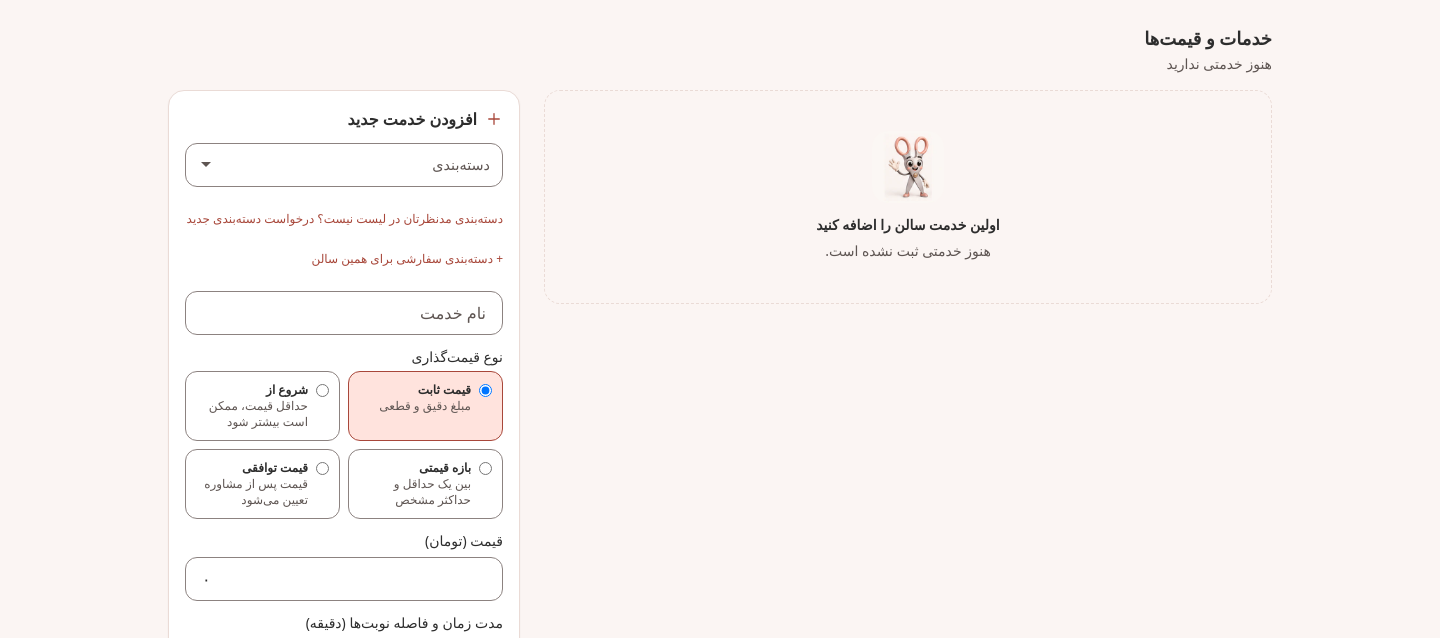
ServicesView › shows an inline error and skips the request for a too-short category request name
Step 1. Click the button with test id "open-category-request" → x=345, y=219, box [187,199,503,239]
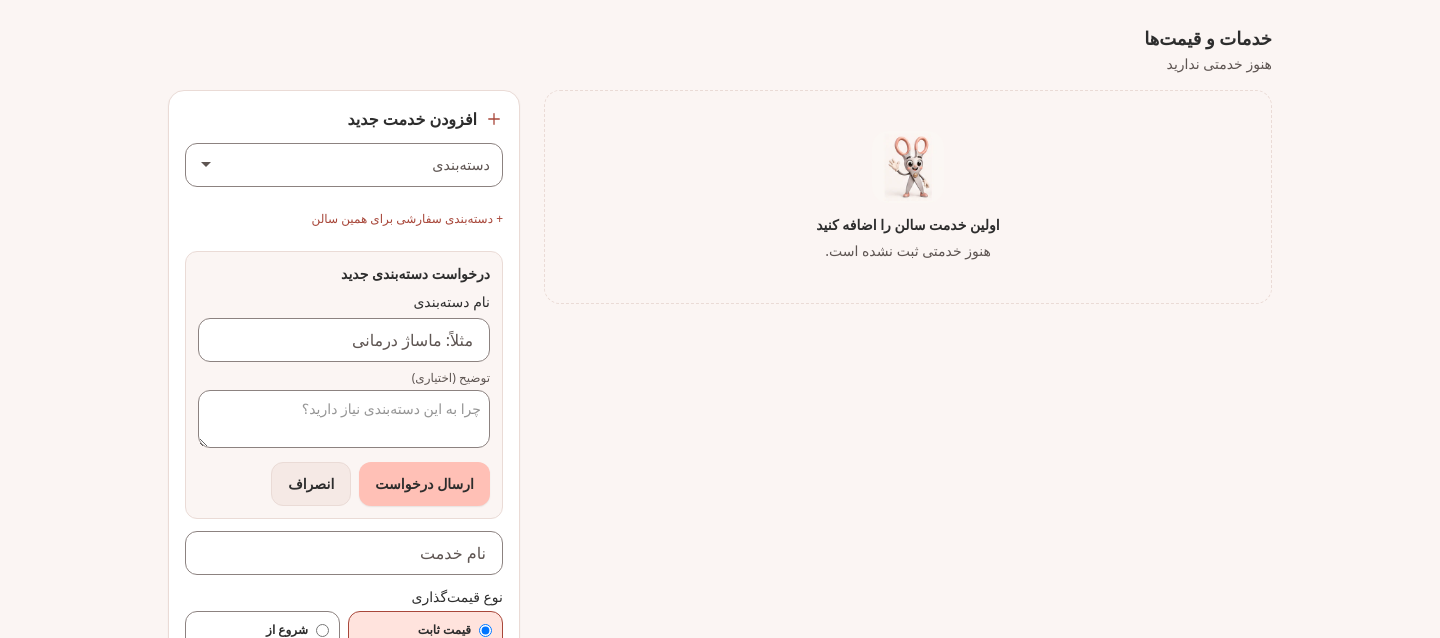
Step 2. Type "م" into the field with test id "category-request-name" → x=344, y=340, box [198,318,490,362]
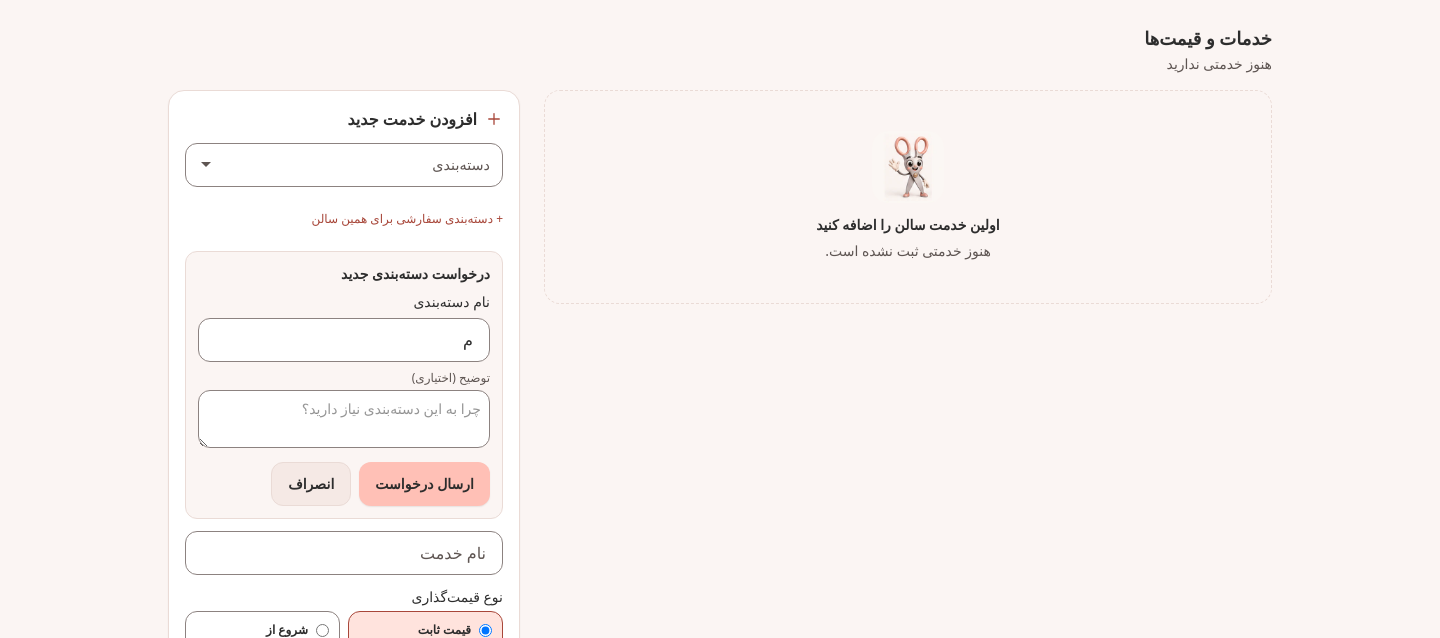
Step 3. Click the button with test id "submit-category-request" → x=425, y=484, box [359,462,490,506]
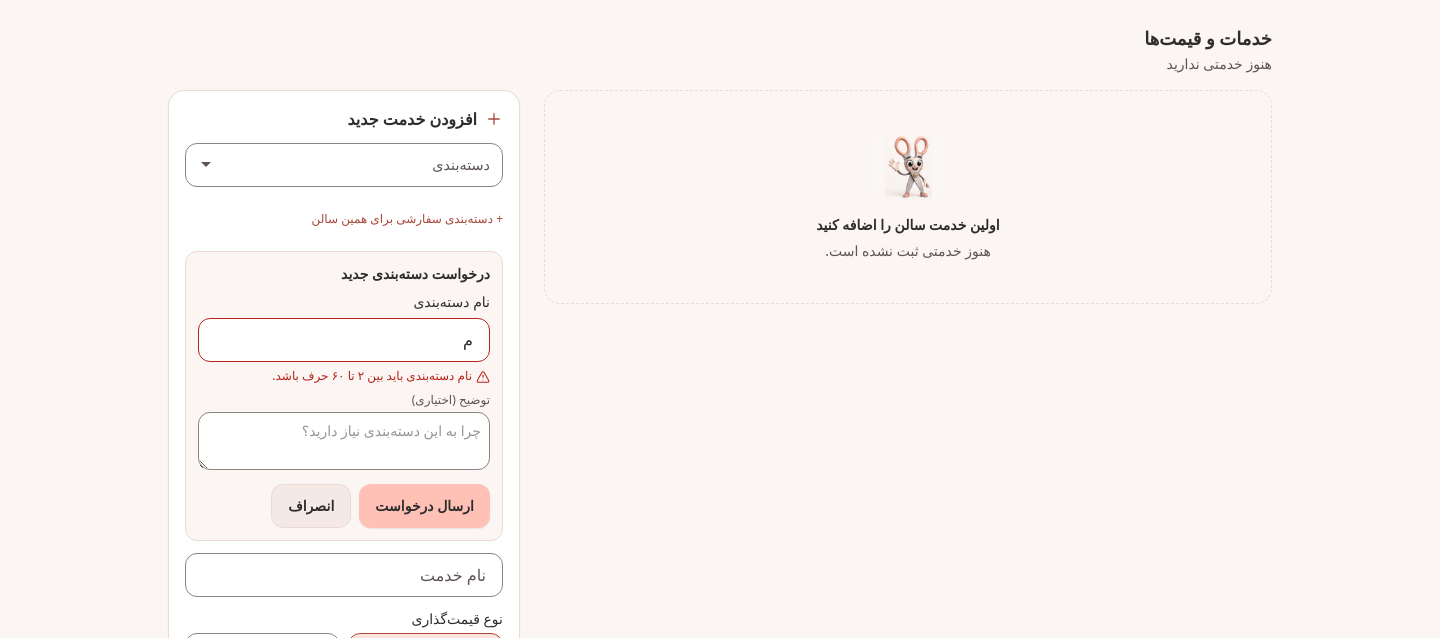
Now the text "نام دسته‌بندی باید بین ۲ تا ۶۰ حرف باشد." is shown, box [272,367,490,384]
